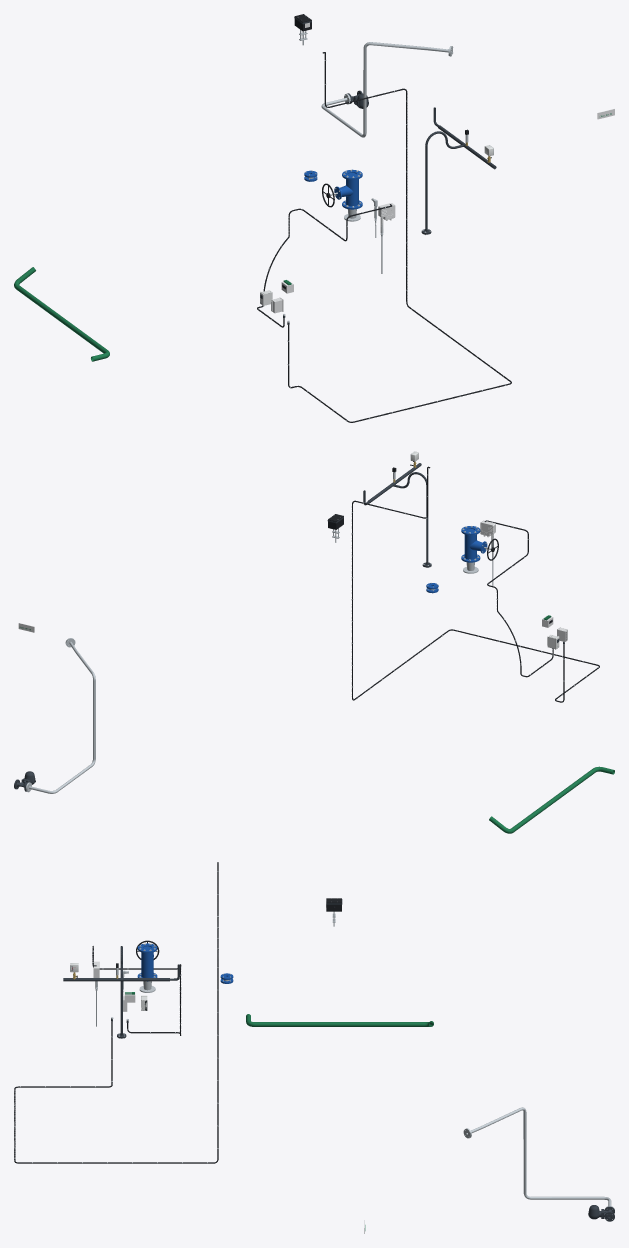
Rendered from s4000-4-DSw3mpwM.glb.
3 views of the same model, one above another, from view 1: azimuth 30°, elevation 25°; view 2: azimuth 150°, elevation 25°; view 3: azimuth 270°, elevation 25° (orthographic). The views are drawn at different scales.
Parts seen in each view (by area): view 1: gpz_drive_cable / black, trap_gap_to_bdv / steel, deaerator_feed / green, pressure_header / dark, steam_manual / blue; view 2: gpz_drive_cable / black, deaerator_feed / green, trap_gap_to_bdv / steel, steam_manual / blue, pressure_header / dark; view 3: gpz_drive_cable / black, trap_gap_to_bdv / steel, deaerator_feed / green, pressure_header / dark, steam_manual / blue.
Boxes of the visible parts, x1=… form: gpz_drive_cable / black: x1=288, y1=52, x2=511, y2=422; trap_gap_to_bdv / steel: x1=321, y1=42, x2=453, y2=137; deaerator_feed / green: x1=14, y1=267, x2=109, y2=361; pressure_header / dark: x1=421, y1=107, x2=496, y2=234; steam_manual / blue: x1=334, y1=169, x2=362, y2=209; gpz_drive_cable / black: x1=352, y1=466, x2=599, y2=702; deaerator_feed / green: x1=489, y1=766, x2=614, y2=833; trap_gap_to_bdv / steel: x1=25, y1=638, x2=95, y2=793; steam_manual / blue: x1=461, y1=526, x2=487, y2=562; pressure_header / dark: x1=363, y1=463, x2=431, y2=567; gpz_drive_cable / black: x1=14, y1=862, x2=218, y2=1163; trap_gap_to_bdv / steel: x1=463, y1=1107, x2=614, y2=1214; deaerator_feed / green: x1=246, y1=1014, x2=433, y2=1026; pressure_header / dark: x1=63, y1=946, x2=179, y2=1038; steam_manual / blue: x1=137, y1=943, x2=157, y2=981.
Size of the model in its own units: 7.22 by 3.25 by 6.74.
